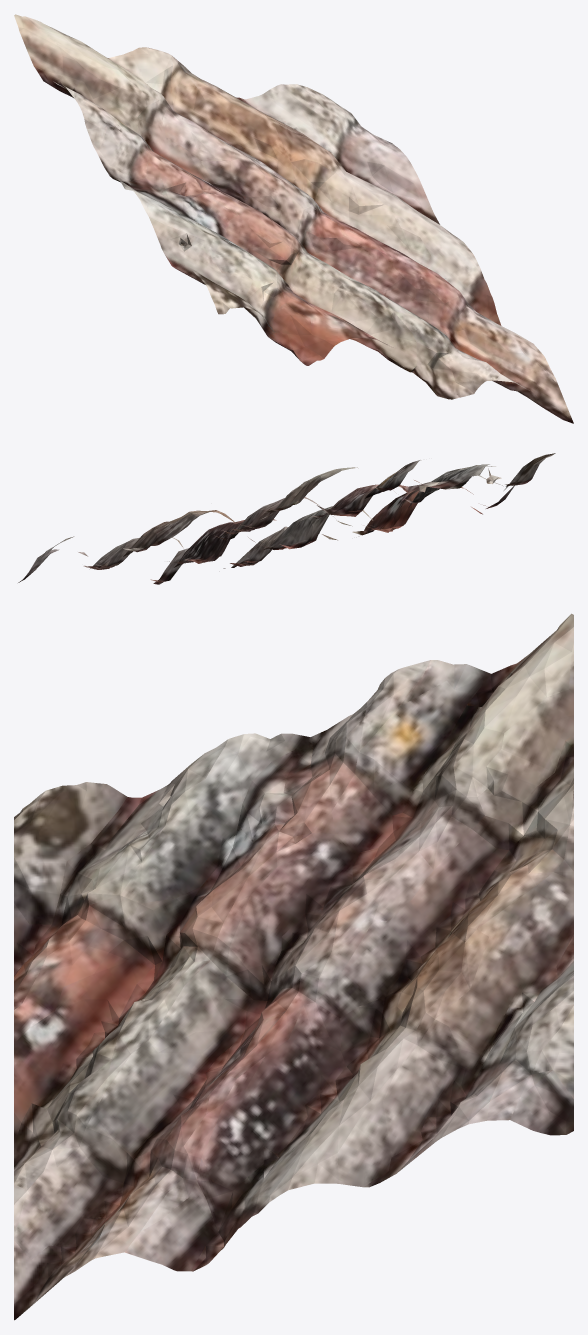
3 views of the same model, one above another, from view 1: azimuth 30°, elevation 25°; view 2: azimuth 150°, elevation 25°; view 3: azimuth 270°, elevation 25° (orthographic). The views are drawn at different scales.
Size of the model in its own units: 0.8373 by 0.7768 by 0.8373.
3 materials, 3 textured.
